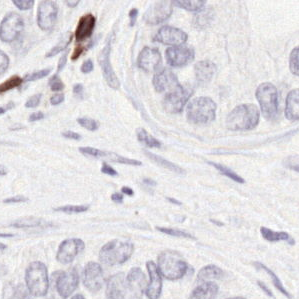Lymphocyte: (70, 14, 99, 43)
